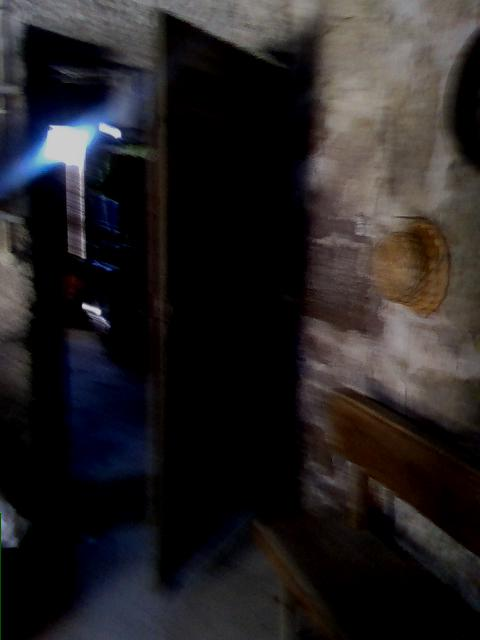semi_door: (23, 3, 288, 581)
